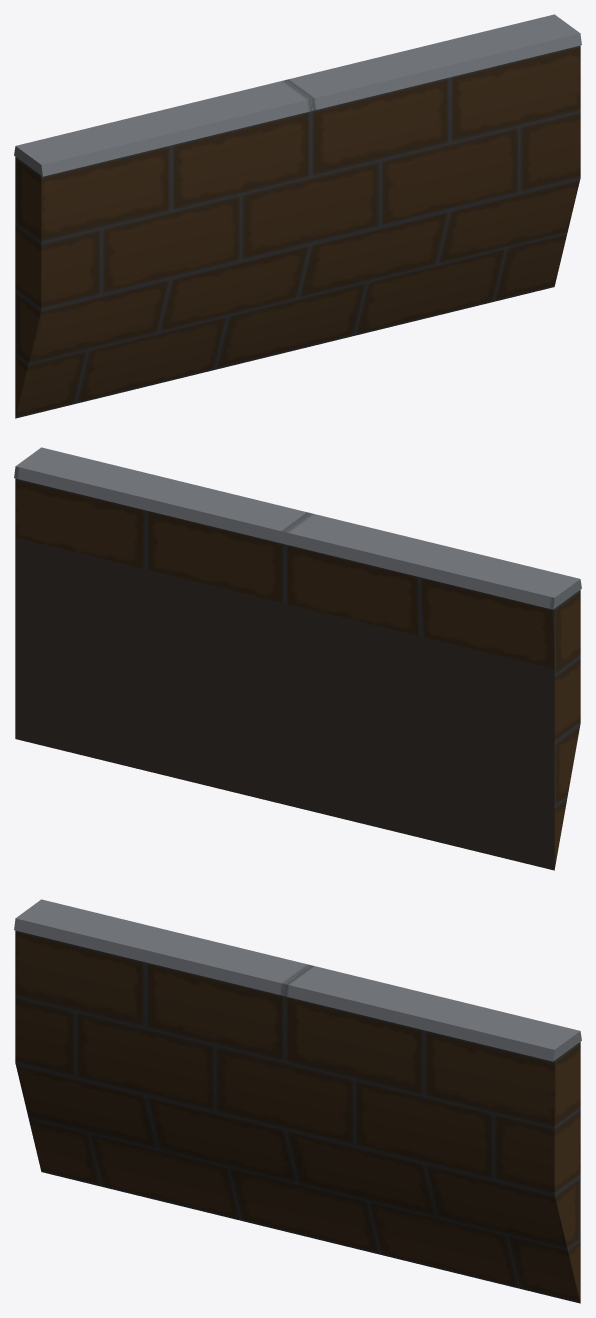
Rendered from SW_ENV_WalledEndPiece.fbx.
The picture shows the model from 3 angles, top to bottom: view 1: azimuth 30°, elevation 25°; view 2: azimuth 150°, elevation 25°; view 3: azimuth 330°, elevation 25°; orthographic projection.
Visible parts, largest first — view 1: SW_ENV_WalledEndPiece; view 2: SW_ENV_WalledEndPiece; view 3: SW_ENV_WalledEndPiece.
Part boxes in pixels (x1,y1,x2,y2): SW_ENV_WalledEndPiece: [14, 14, 581, 418]; SW_ENV_WalledEndPiece: [14, 447, 581, 870]; SW_ENV_WalledEndPiece: [14, 899, 581, 1303].
Size of the model in its own units: 4.2 by 2.03 by 0.39.
